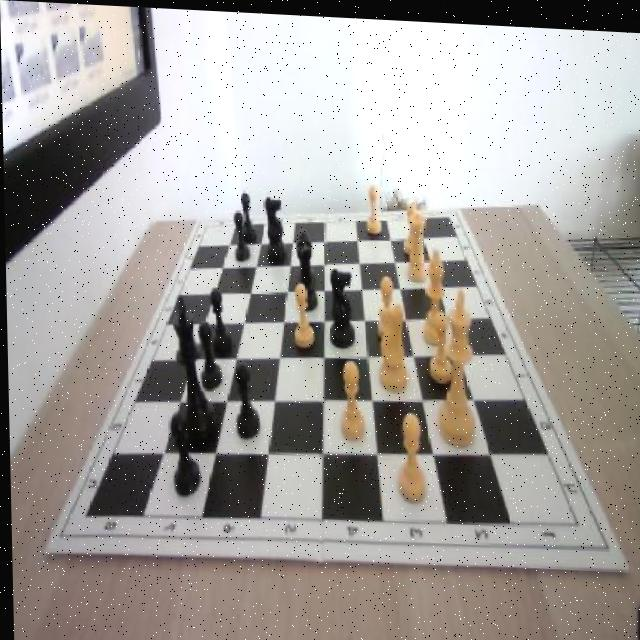black-bishop: (168, 299, 215, 445)
black-king: (325, 262, 355, 344), (263, 191, 286, 263)
black-knight: (169, 410, 199, 495), (231, 358, 258, 436), (197, 319, 222, 389), (208, 284, 231, 352), (238, 190, 255, 240), (233, 208, 249, 261)
black-queen: (292, 233, 318, 310)
black-rook: (419, 243, 447, 341)
white-bishop: (433, 282, 478, 443)
white-king: (372, 289, 413, 392)
white-knight: (393, 408, 427, 500), (333, 354, 366, 439), (425, 305, 454, 382), (374, 272, 400, 341), (290, 278, 312, 344), (363, 182, 382, 232), (401, 199, 419, 250)
white-queen: (403, 207, 428, 278)
